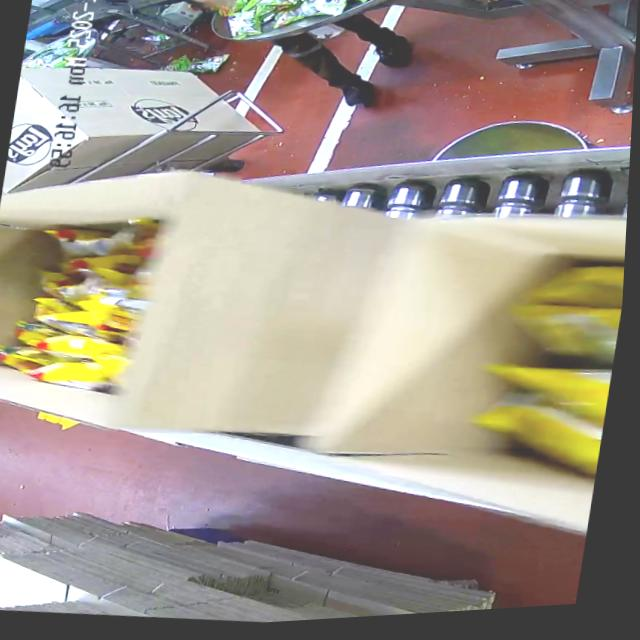SALTED: (468, 241, 626, 467), (7, 204, 164, 397)
